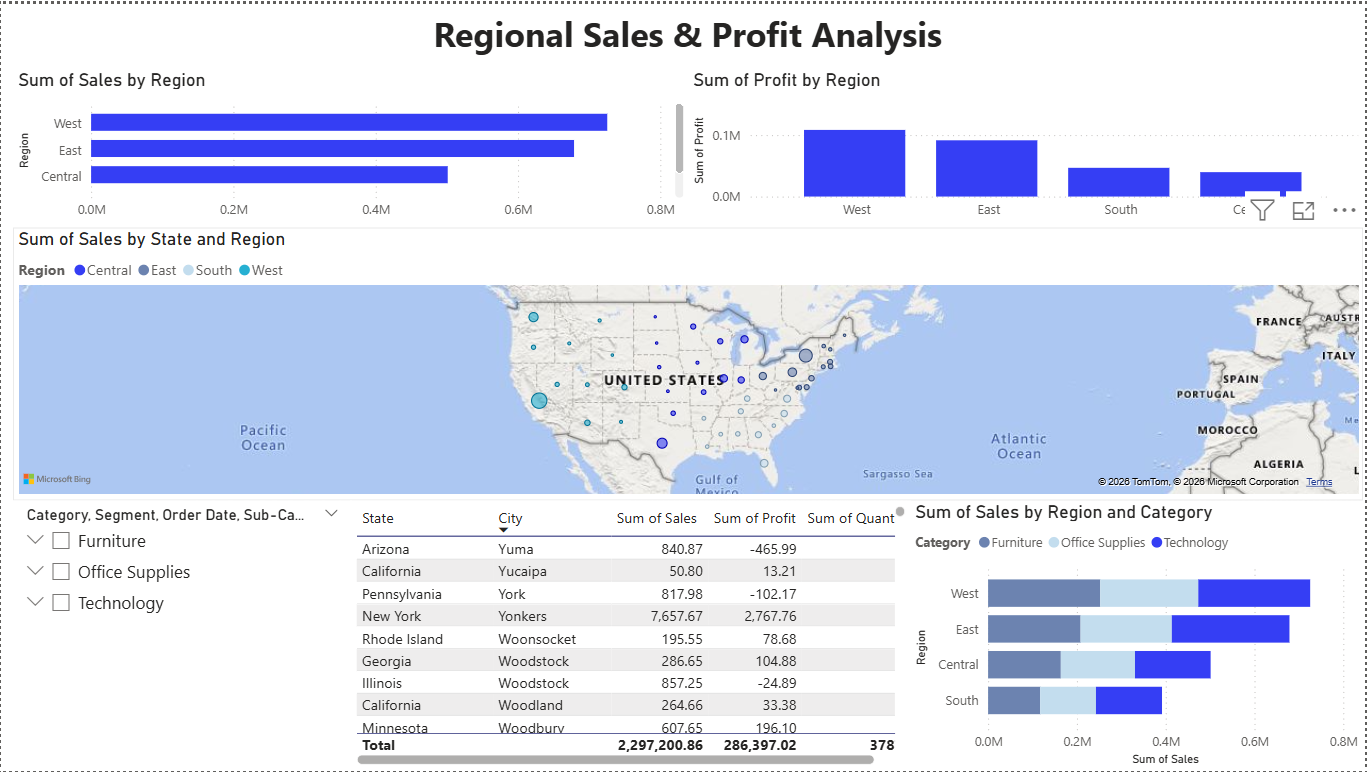

The page's visual inventory and layout, read from the dashboard file:
{"tool":"powerbi","page":{"name":"Regional Analysis","canvas":[1280,720],"ordinal":2},"visuals":[{"type":"textbox","box":[10,0,1270,60],"z":0},{"type":"clusteredBarChart","fields":{"Category":["Sample - Superstore.Region"],"Y":["Sum(Sample - Superstore.Sales)"]},"box":[10.6,60.6,634.5,149.9],"z":1000},{"type":"columnChart","fields":{"Category":["Sample - Superstore.Region"],"Y":["Sum(Sample - Superstore.Profit)"]},"box":[645.1,60.6,634.5,149.9],"z":2000},{"type":"map","fields":{"Category":["Sample - Superstore.State"],"Size":["Sum(Sample - Superstore.Sales)"],"Series":["Sample - Superstore.Region"]},"box":[10.6,210.5,1268.9,255.9],"z":3000},{"type":"barChart","fields":{"Category":["Sample - Superstore.Region"],"Y":["Sum(Sample - Superstore.Sales)"],"Series":["Sample - Superstore.Category"]},"box":[854,466.4,425.5,252.9],"z":4000},{"type":"tableEx","fields":{"Values":["Sample - Superstore.State","Sample - Superstore.City","Sum(Sample - Superstore.Sales)","Sum(Sample - Superstore.Profit)","Sum(Sample - Superstore.Quantity)"]},"box":[328.6,466.4,525.4,252.9],"z":5000},{"type":"slicer","fields":{"Values":["Sample - Superstore.Category","Sample - Superstore.Segment","Sample - Superstore.Order Date","Sample - Superstore.Sub-Category"]},"box":[10.6,466.4,318,252.9],"z":6000}]}

Visuals, with their boxes in screenshot pixels (x1, y1, x2, y2), scaled from the page's 1280x720 canvas onto the 1367x772 screenshot:
textbox: detection(11, 0, 1366, 64)
clusteredBarChart - Sample - Superstore.Region x Sum(Sample - Superstore.Sales): detection(11, 65, 689, 226)
columnChart - Sample - Superstore.Region x Sum(Sample - Superstore.Profit): detection(689, 65, 1366, 226)
map - Sample - Superstore.State x Sum(Sample - Superstore.Sales): detection(11, 226, 1366, 500)
barChart - Sample - Superstore.Region x Sum(Sample - Superstore.Sales): detection(912, 500, 1366, 771)
tableEx - Sample - Superstore.State x Sample - Superstore.City: detection(351, 500, 912, 771)
slicer - Sample - Superstore.Category x Sample - Superstore.Segment: detection(11, 500, 351, 771)
